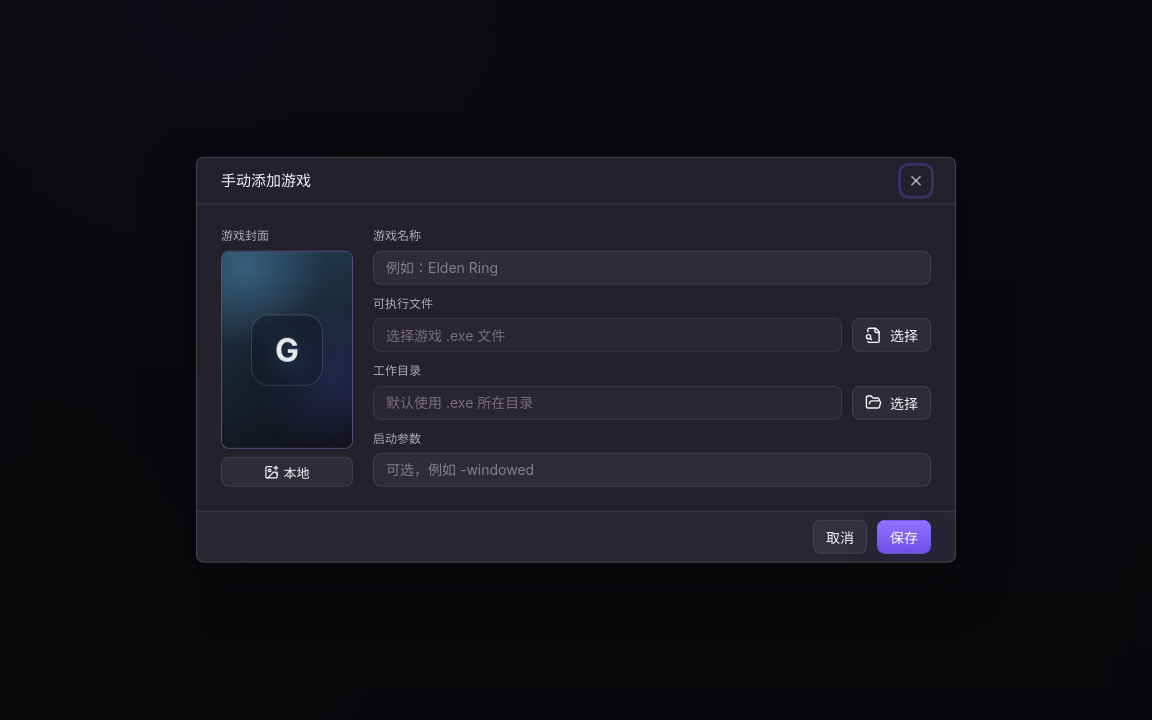
Test: AddGameDialog › shows an error and does not submit without an executable
The width and height of the screenshot is (1152, 720).
Click the button "保存".
click(904, 537)  # box [877,520,931,554]
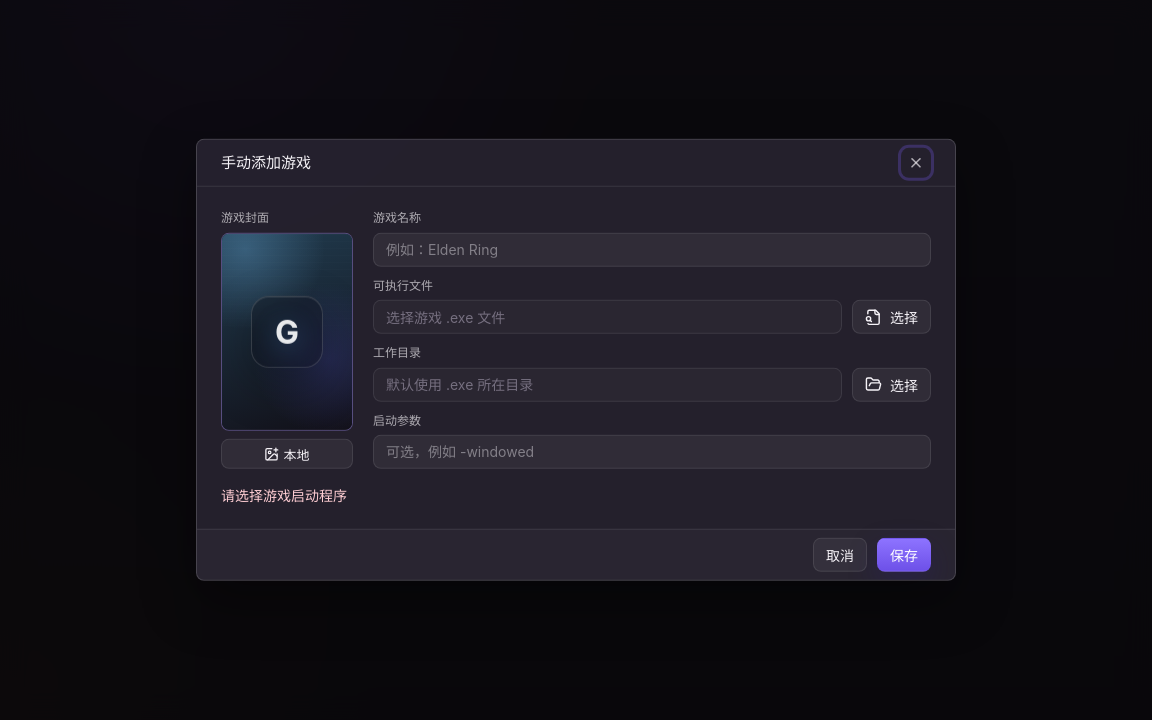
Expected: the dialog shows "请选择游戏启动程序", [221,487,347,504]
